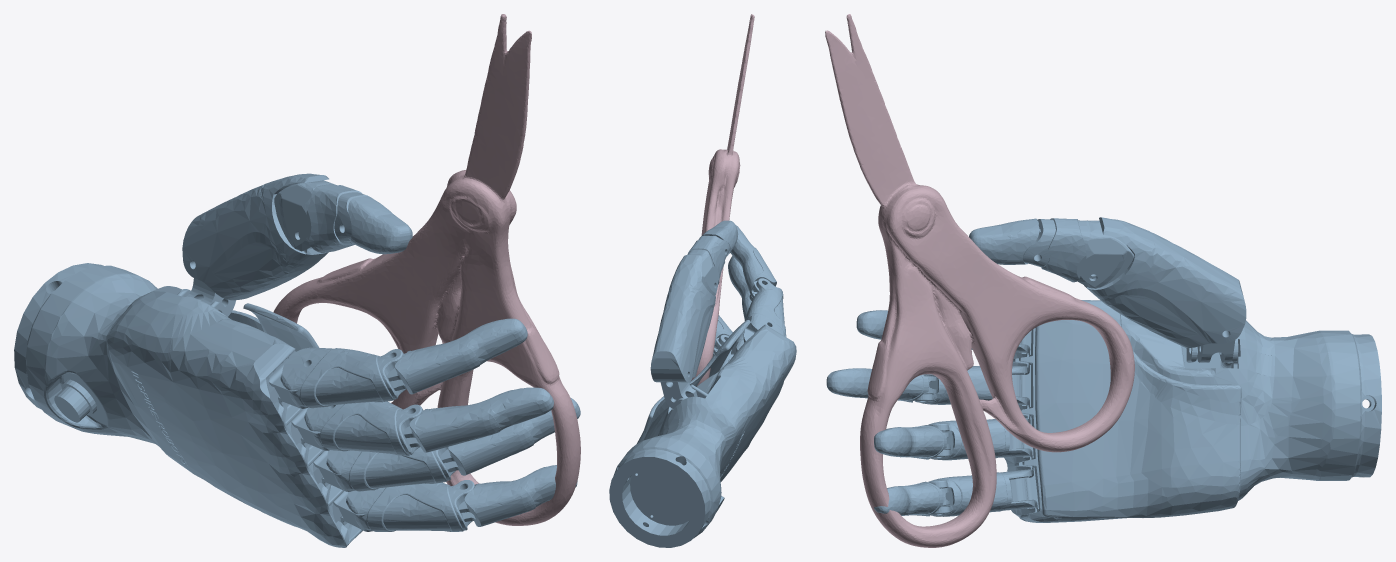
3 views of the same model, side by side, from view 1: azimuth 30°, elevation 25°; view 2: azimuth 150°, elevation 25°; view 3: azimuth 270°, elevation 25° (orthographic). The views are drawn at different scales.
Visible parts, largest first — view 1: world, obj_mesh_grasp_0.obj; view 2: world, obj_mesh_grasp_0.obj; view 3: world, obj_mesh_grasp_0.obj.
Part boxes in pixels (box(x1,y1,x2,y2)): world: box(14, 173, 580, 547); obj_mesh_grasp_0.obj: box(273, 14, 580, 525); world: box(609, 220, 796, 547); obj_mesh_grasp_0.obj: box(691, 14, 754, 385); world: box(826, 217, 1381, 522); obj_mesh_grasp_0.obj: box(825, 14, 1134, 547).
Size of the model in its own units: 0.1156 by 0.2144 by 0.2025.
